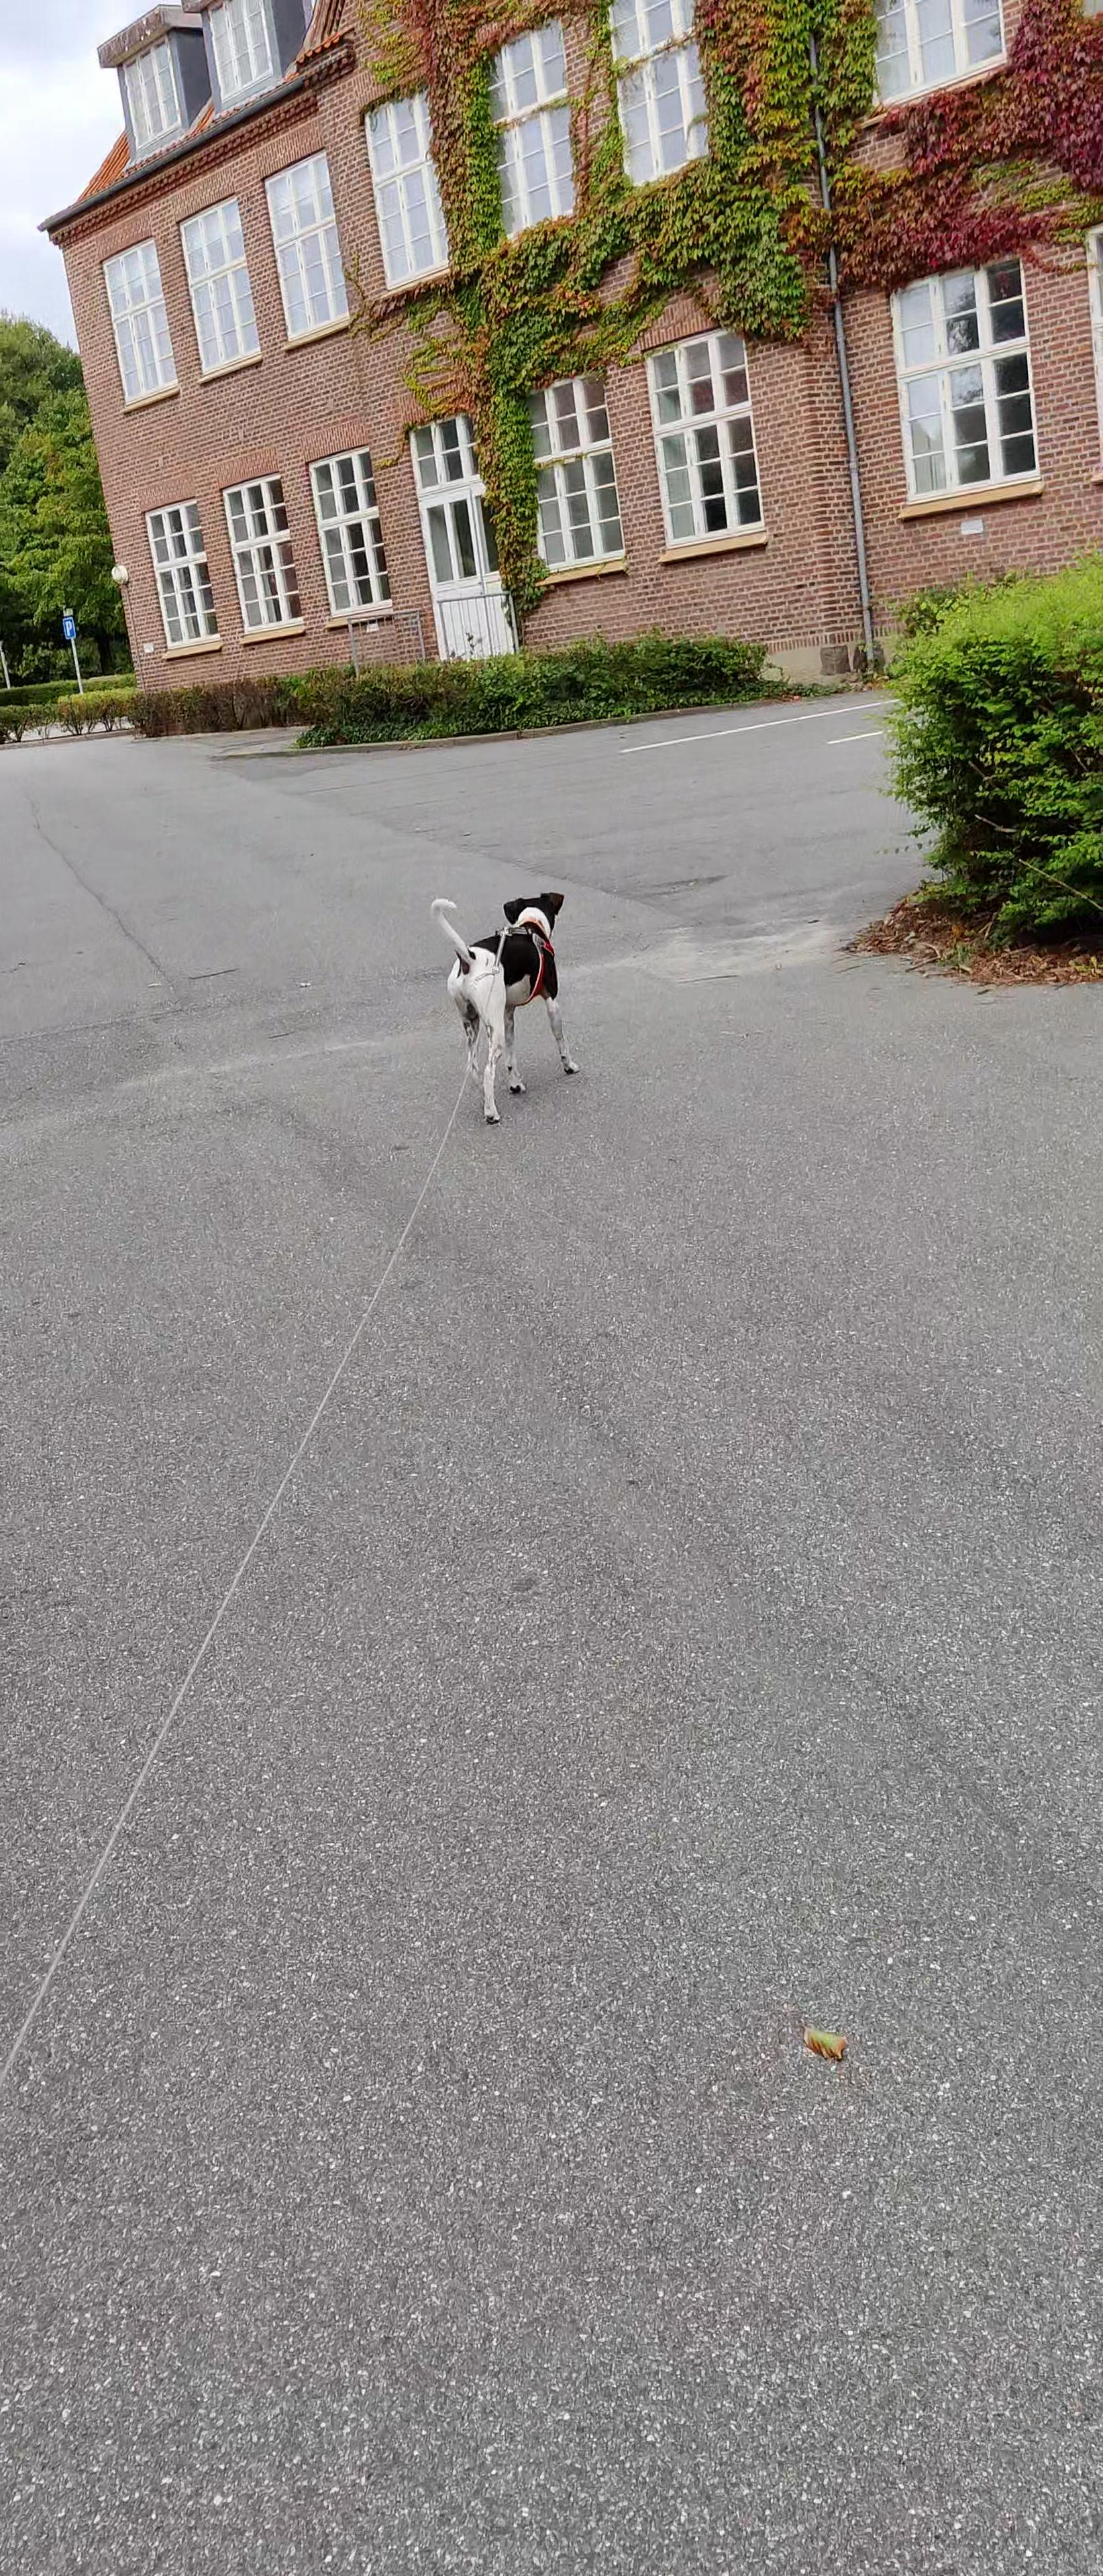Dog: (414, 879, 595, 1130)
